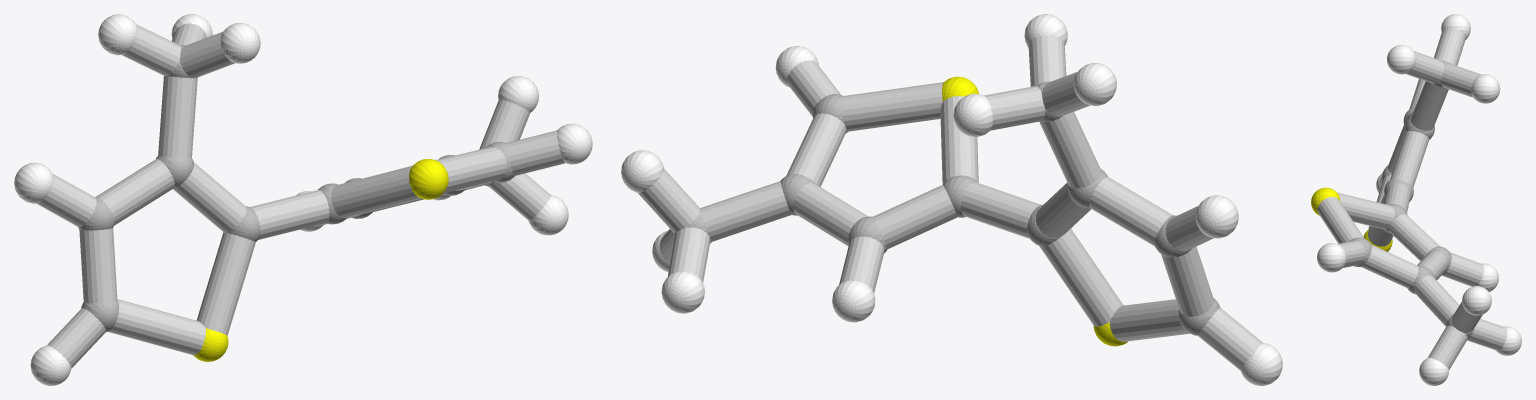
Rendered from color.glb.
3 views of the same model, side by side, from view 1: azimuth 30°, elevation 25°; view 2: azimuth 150°, elevation 25°; view 3: azimuth 270°, elevation 25° (orthographic). The views are drawn at different scales.
Parts seen in each view (by area): view 1: grp7965, grp3621, grp1, grp7241; view 2: grp7965, grp3621, grp1, grp7241; view 3: grp7965, grp3621, grp1, grp7241.
Boxes of the visible parts, box(x1,y1,x2,y2) form: grp7965: box(36, 23, 564, 368); grp3621: box(14, 14, 592, 385); grp1: box(78, 45, 514, 331); grp7241: box(193, 159, 448, 361); grp7965: box(638, 35, 1262, 370); grp3621: box(621, 14, 1282, 385); grp1: box(673, 81, 1220, 335); grp7241: box(942, 76, 1127, 346); grp7965: box(1317, 28, 1507, 369); grp3621: box(1317, 14, 1521, 385); grp1: box(1349, 60, 1473, 338); grp7241: box(1311, 187, 1392, 251).
Size of the model in its own units: 9.47 by 5.04 by 4.25.
